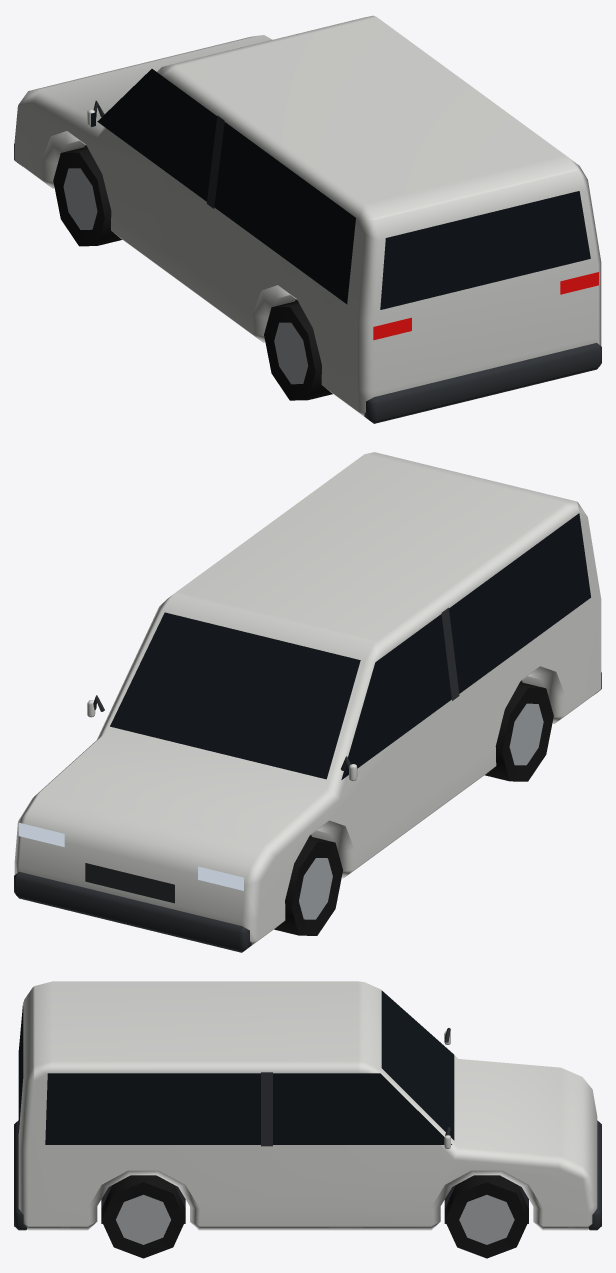
File: car_suv.glb
3 views of the same model, one above another, from view 1: azimuth 30°, elevation 25°; view 2: azimuth 150°, elevation 25°; view 3: azimuth 270°, elevation 25° (orthographic). The views are drawn at different scales.
Visible parts, largest first — view 1: Body, Wheels; view 2: Body, Wheels; view 3: Body, Wheels.
Part boxes in pixels (left/top/right/bottom): Body: left=14, top=15, right=601, bottom=423; Wheels: left=53, top=146, right=332, bottom=400; Body: left=14, top=452, right=601, bottom=952; Wheels: left=274, top=682, right=553, bottom=935; Body: left=14, top=981, right=601, bottom=1230; Wheels: left=101, top=1175, right=528, bottom=1258.
Size of what is drawn, in the model's own units: 2.09 by 1.74 by 4.88.
6 materials, 1 textured.
